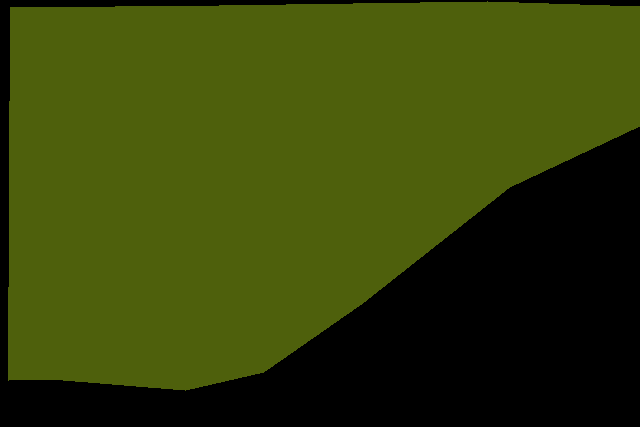Train: (8, 1, 640, 390)
